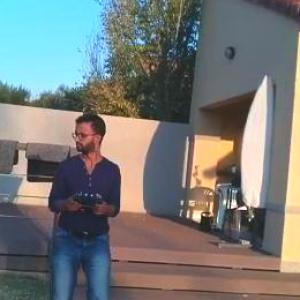follow: (43, 111, 127, 299)
